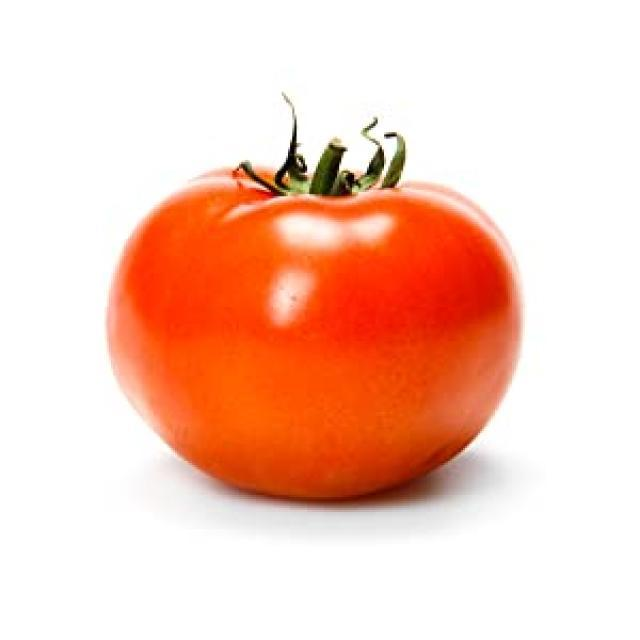kirmizi: (74, 134, 528, 514)
